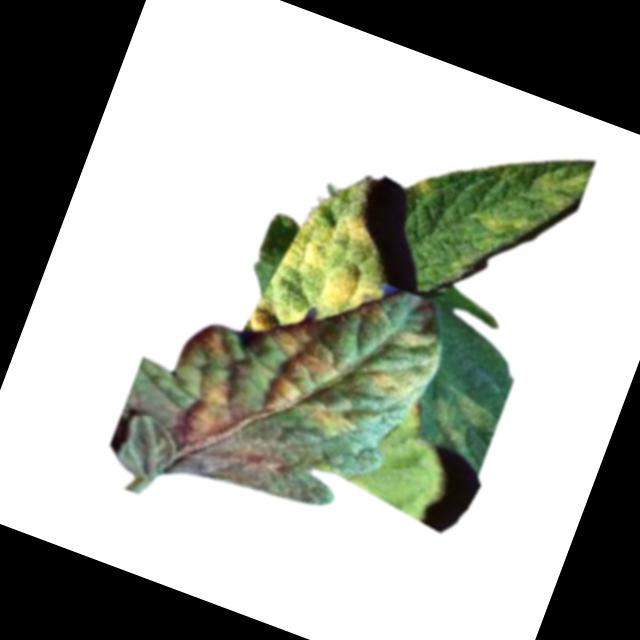Leaf_Mold: (243, 190, 400, 370), (255, 345, 336, 429), (172, 371, 238, 453), (528, 152, 592, 215), (467, 200, 536, 248), (297, 399, 359, 446), (354, 359, 415, 404), (414, 171, 434, 193)
